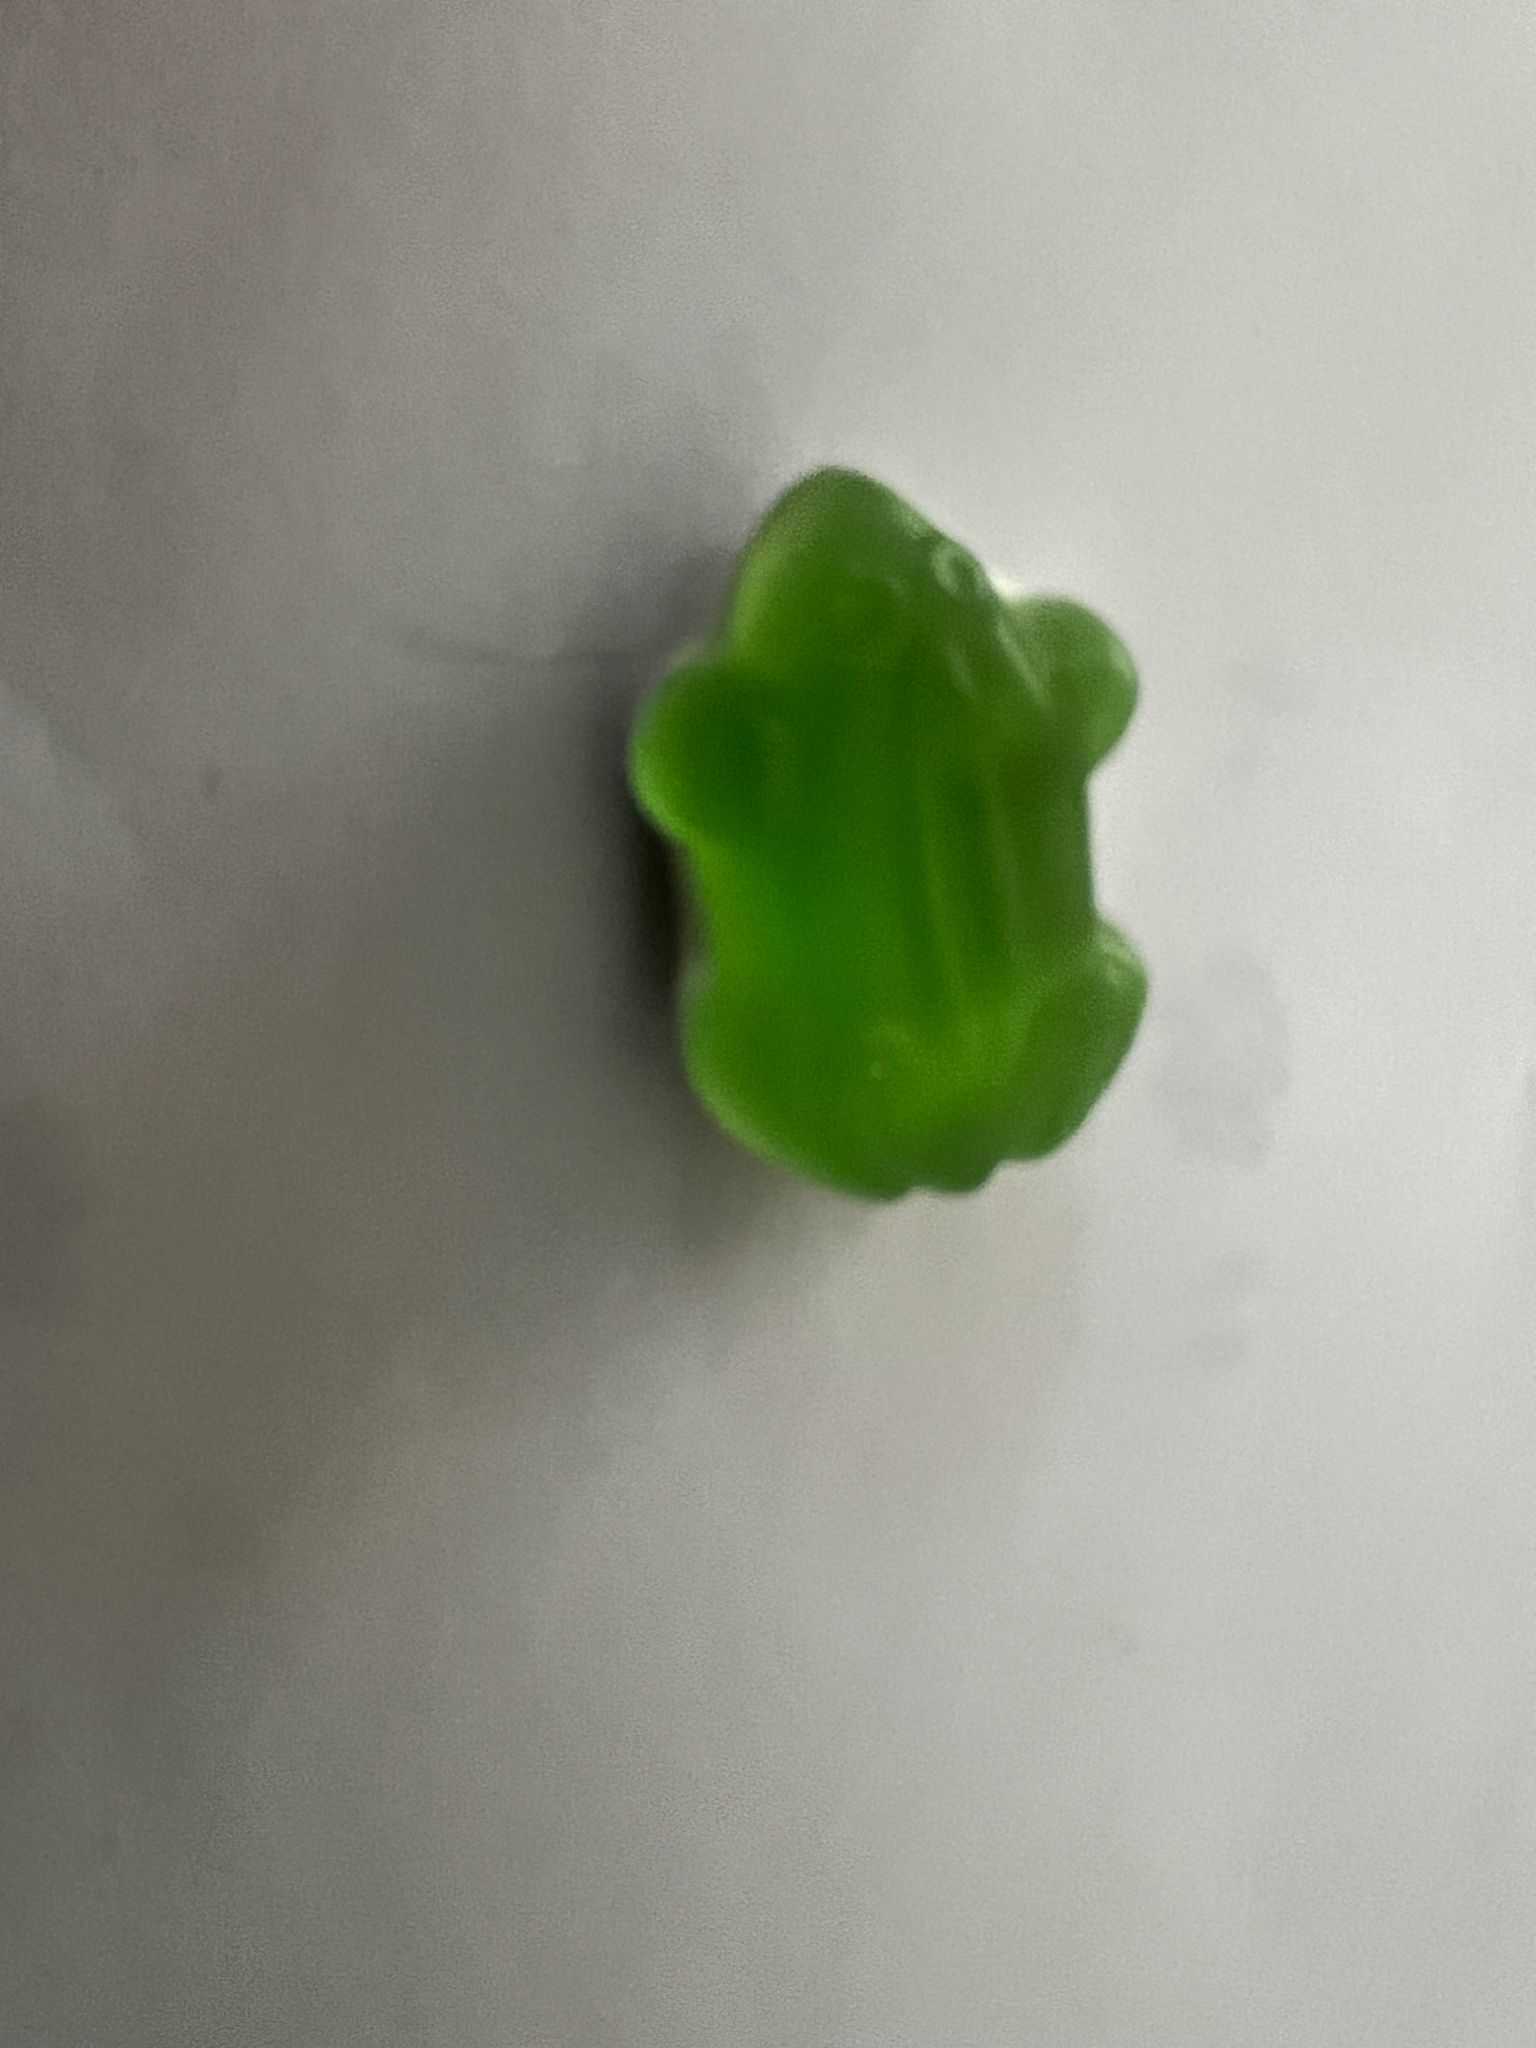frog: (618, 452, 1155, 1213)
